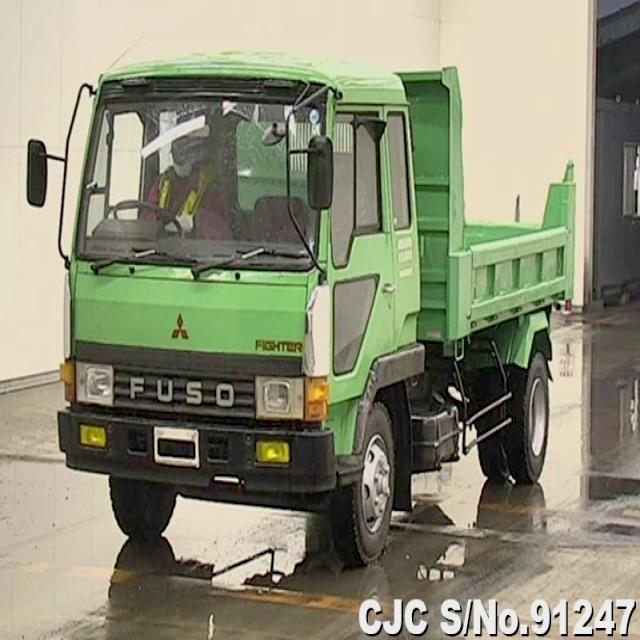truck: (24, 52, 579, 566)
